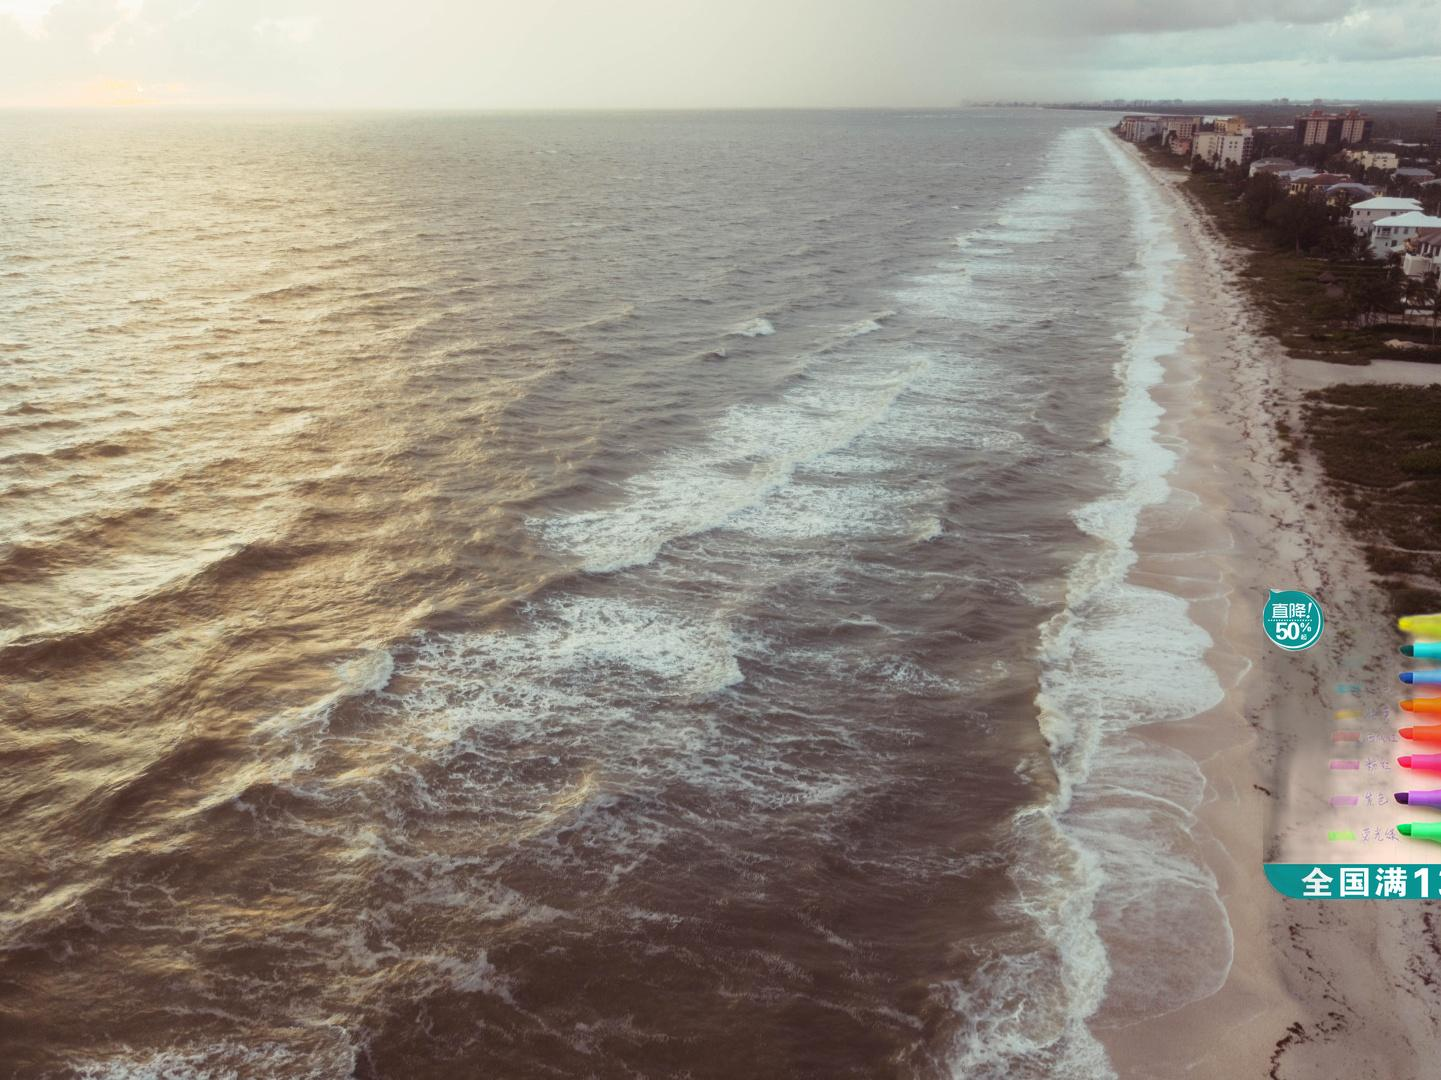penholder: (1263, 589, 1441, 898)
